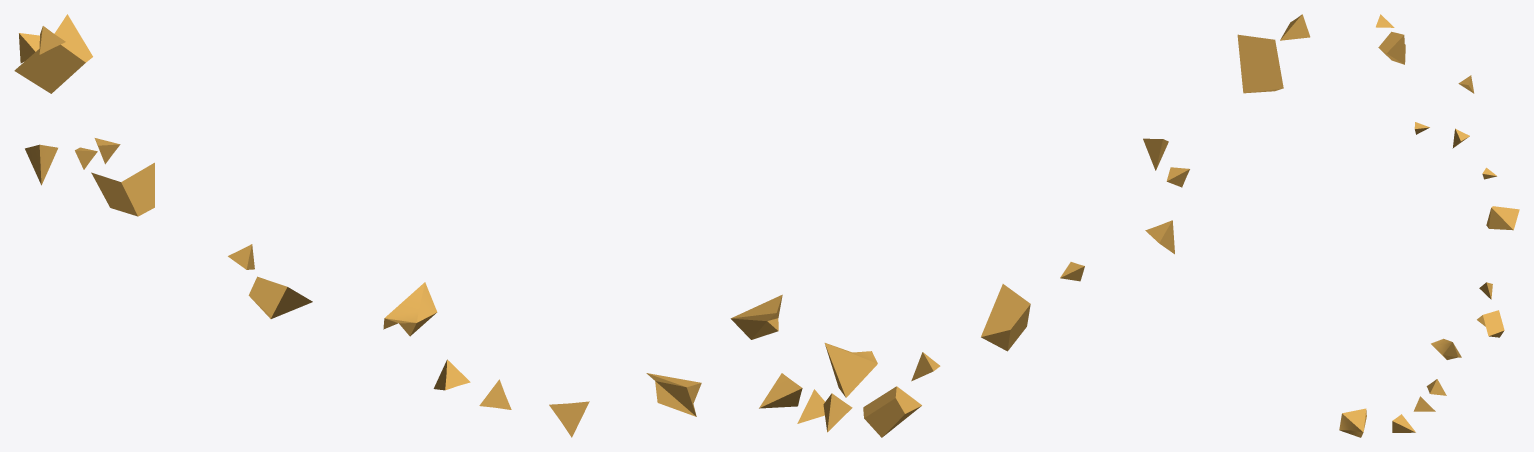
File: definity.crystal_rock_crystal_fly.glb
3 views of the same model, side by side, from view 1: azimuth 30°, elevation 25°; view 2: azimuth 150°, elevation 25°; view 3: azimuth 270°, elevation 25° (orthographic). The views are drawn at different scales.
Visible parts, largest first — view 1: rock.011, rock.008, rock, rock.001, rock.012, rock.003, rock.009; view 2: rock.011, rock.008, rock, rock.001, rock.012, rock.003, rock.006; view 3: rock.008, rock.011, rock.012, rock, rock.001, rock.003, rock.006, rock.005.
Part boxes in pixels (x1,y1,x2,y2): rock.011: (14,14,92,93); rock.008: (91,162,154,216); rock: (248,276,312,318); rock.001: (383,282,437,336); rock.012: (646,373,701,416); rock.003: (549,401,589,437); rock.009: (25,144,57,185); rock.011: (1237,34,1283,93); rock.008: (981,284,1030,351); rock: (863,386,921,437); rock.001: (824,343,877,397); rock.012: (730,294,782,339); rock.003: (759,373,802,408); rock.006: (823,393,852,432); rock.008: (1486,206,1519,230); rock.011: (1378,31,1405,64); rock.012: (1339,408,1366,437); rock: (1477,310,1504,337); rock.001: (1431,338,1461,359); rock.003: (1392,414,1415,432); rock.006: (1426,379,1446,395); rock.005: (1413,396,1435,411).
Bounding box in the file's own units: 6.16 × 5.01 × 2.89.
